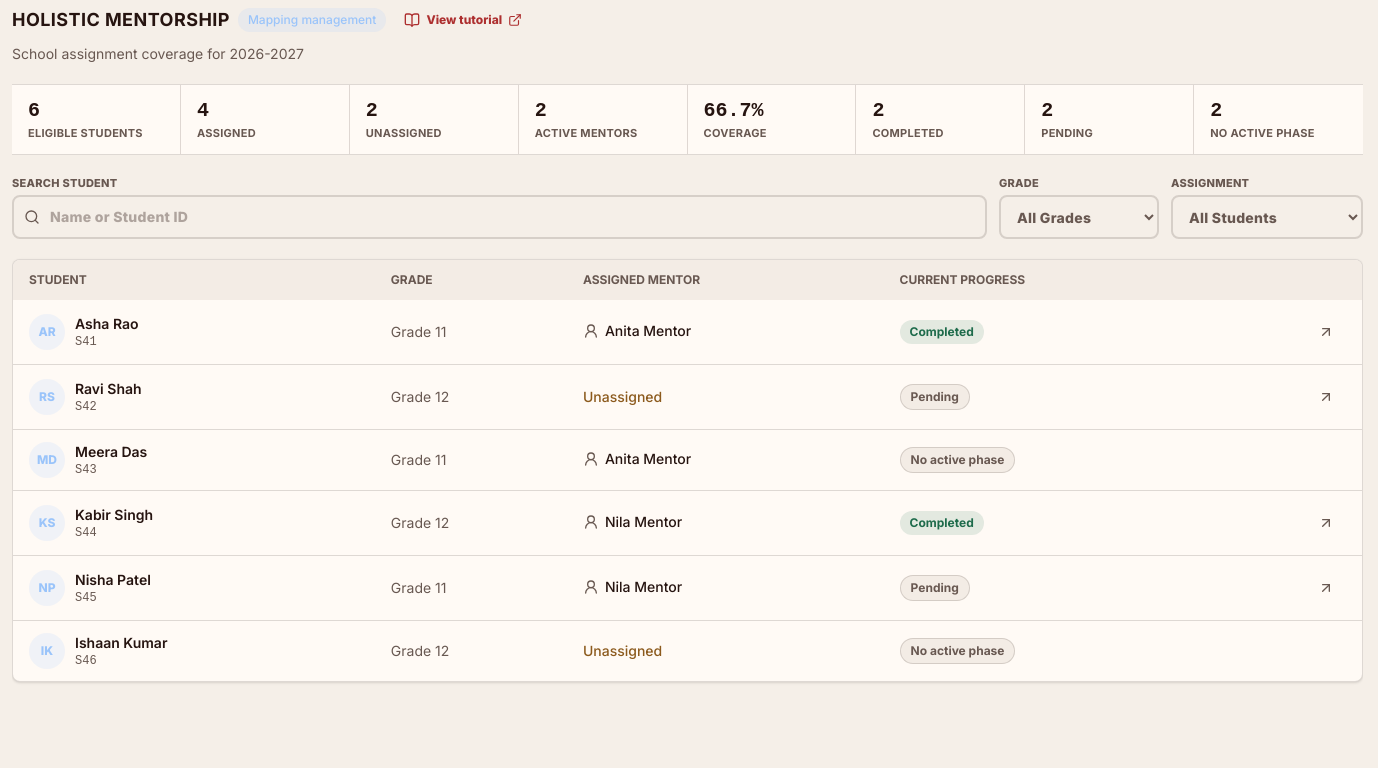
AdminSchoolRoster › derives every summary metric from grade-filtered rows
The image size is (1378, 768).
Select "Grade 12" in the dropdown named "Filter by Grade": point(1079, 217) [999,195,1159,239]
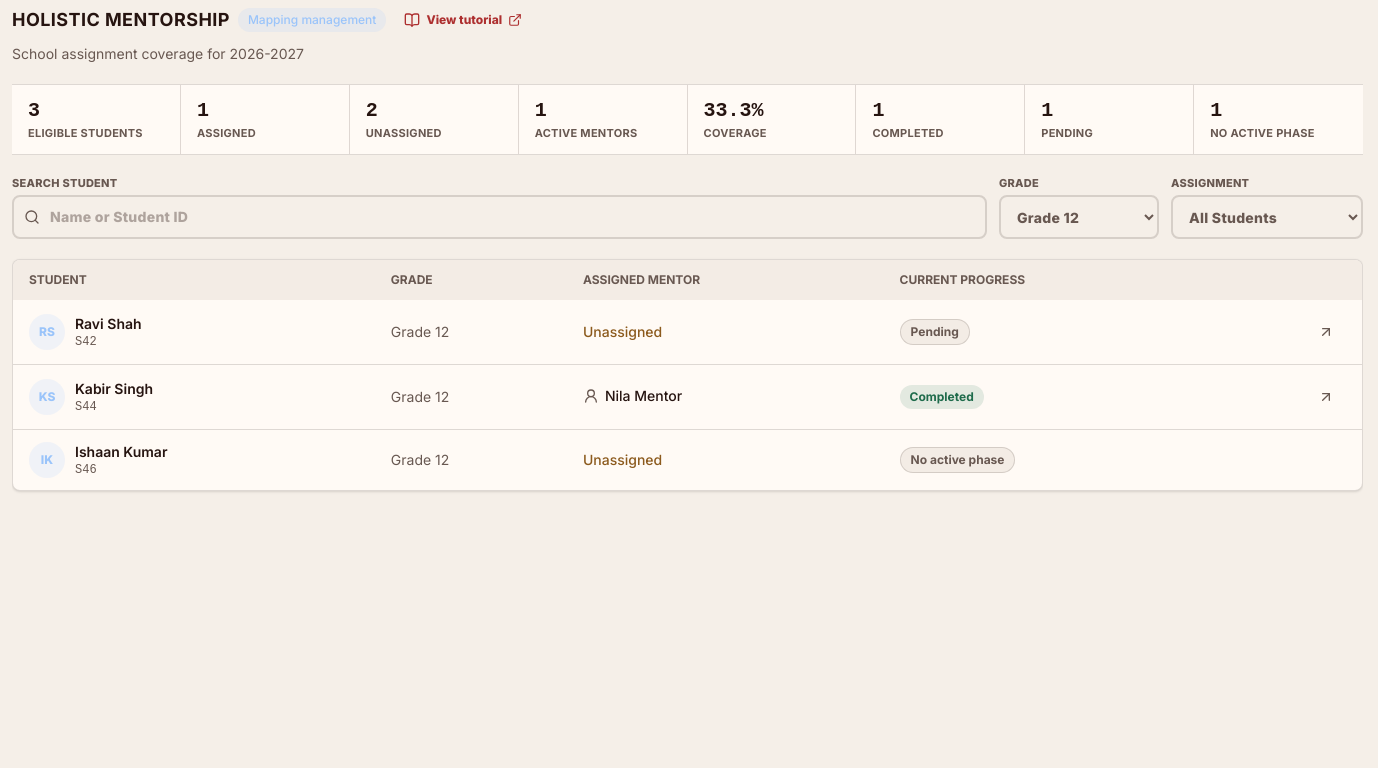
Check: the text "Asha Rao" is gone
Check: the text "3" is shown, box [28,99,40,122]
Check: the text "33.3%" is shown, box [704,99,764,122]
